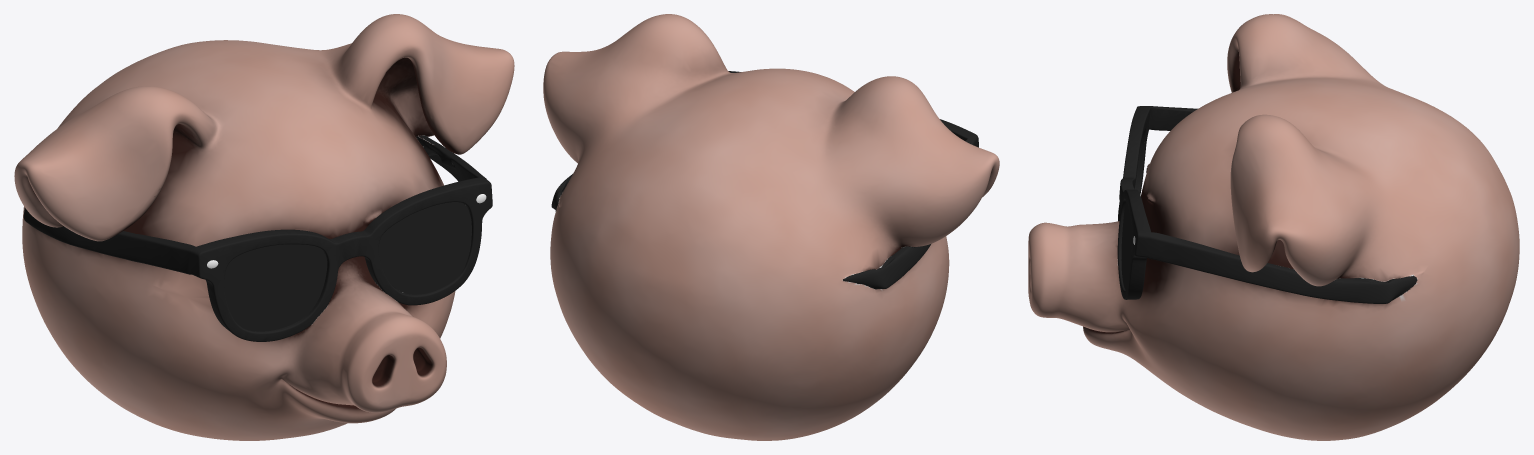
File: slypork-pig.glb
3 renders of one model, left to right at view 1: azimuth 30°, elevation 25°; view 2: azimuth 150°, elevation 25°; view 3: azimuth 270°, elevation 25°, orthographic. The views are drawn at different scales.
Visible parts, largest first — view 1: Pig, Pig.001; view 2: Pig; view 3: Pig, Pig.001.
Boxes of the visible parts, box(x1,y1,x2,y2) form: Pig: box(14, 14, 514, 440); Pig.001: box(224, 202, 471, 331); Pig: box(543, 14, 999, 440); Pig: box(1028, 14, 1519, 440); Pig.001: box(1121, 201, 1131, 289).
Bounding box in the file's own units: 1.9 × 1.47 × 1.84.
